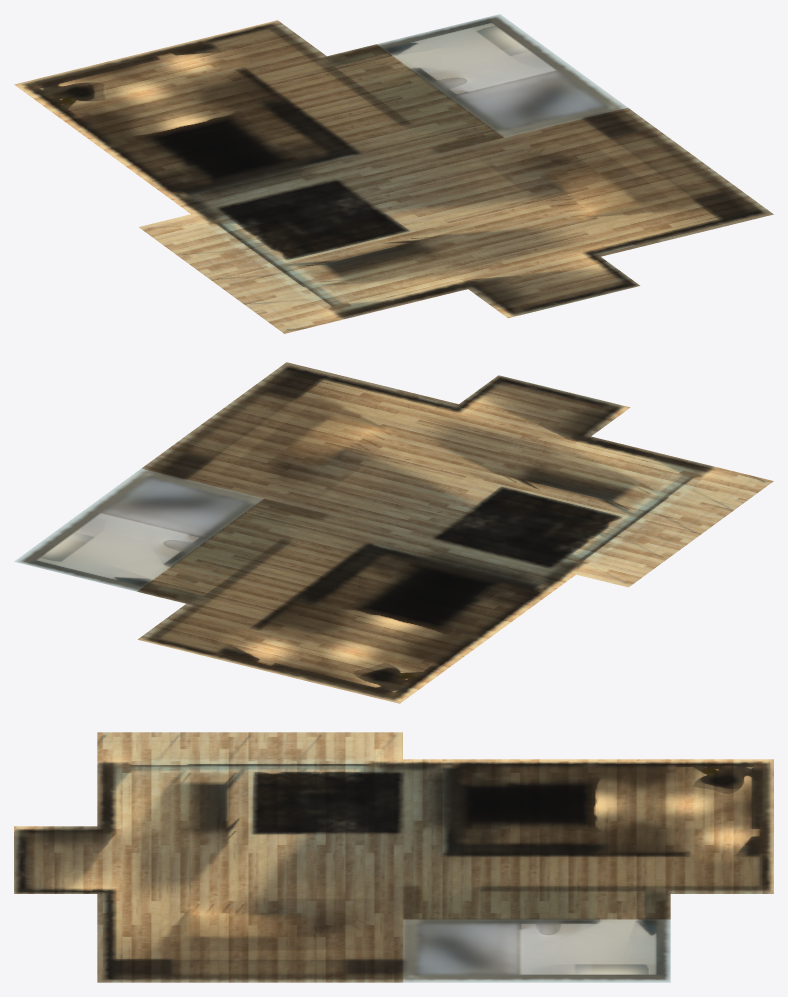
File: Floor.glb
3 renders of one model, top to bottom at view 1: azimuth 30°, elevation 25°; view 2: azimuth 150°, elevation 25°; view 3: azimuth 270°, elevation 25°, orthographic. The views are drawn at different scales.
Visible parts, largest first — view 1: SM_Floor_surfaceShader1_0, SM_Floor_surfaceShader1_0.001; view 2: SM_Floor_surfaceShader1_0, SM_Floor_surfaceShader1_0.001; view 3: SM_Floor_surfaceShader1_0, SM_Floor_surfaceShader1_0.001.
Boxes of the visible parts, x1,y1,x2,y2 form: SM_Floor_surfaceShader1_0: (14, 14, 773, 320); SM_Floor_surfaceShader1_0.001: (139, 214, 335, 333); SM_Floor_surfaceShader1_0: (14, 362, 721, 703); SM_Floor_surfaceShader1_0.001: (577, 468, 773, 587); SM_Floor_surfaceShader1_0: (14, 759, 773, 982); SM_Floor_surfaceShader1_0.001: (97, 732, 402, 758).
Size of the model in its own units: 11.17 by 3.72e-07 by 14.35.
1 material, 1 textured.
